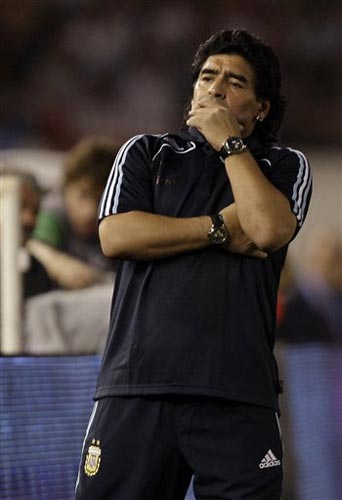face: (191, 47, 258, 135)
